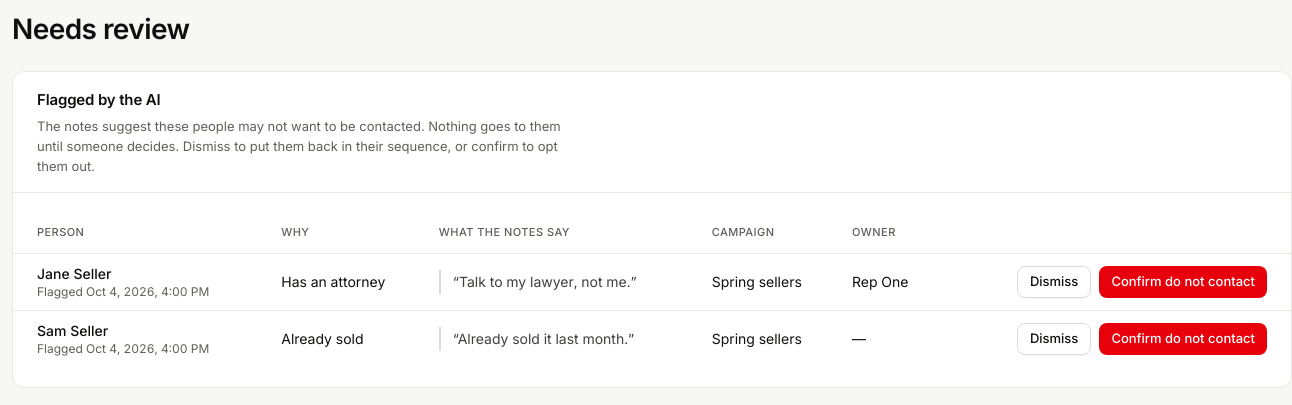
Test case: ReviewPage › dismisses a flag and removes the row
This screenshot has width=1292, height=405.
Click the button with aria-label "Dismiss flag for Jane Seller" at (1054,282), box [1017,266,1091,298]
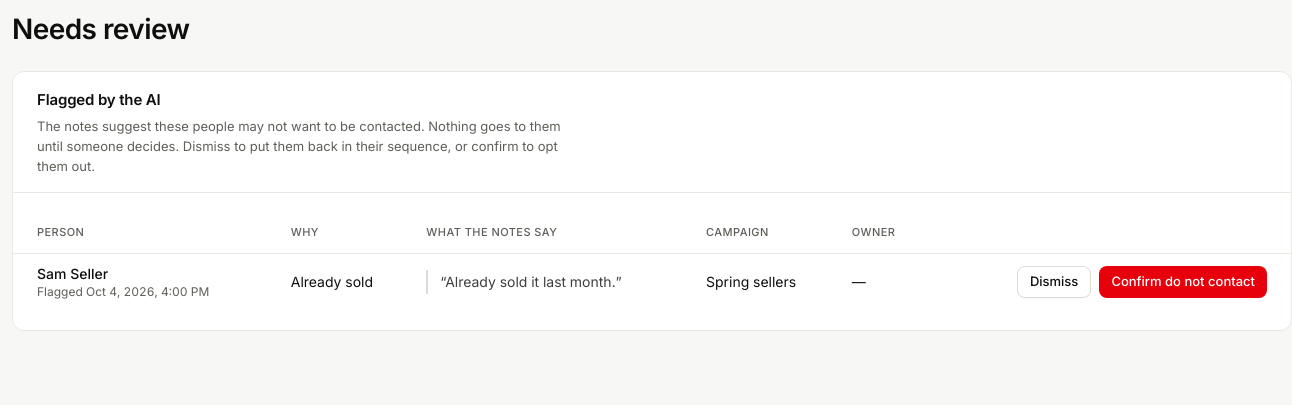
Check: the text "Sam Seller" is shown, box [37,264,108,282]
Check: the text "Jane Seller" is gone
